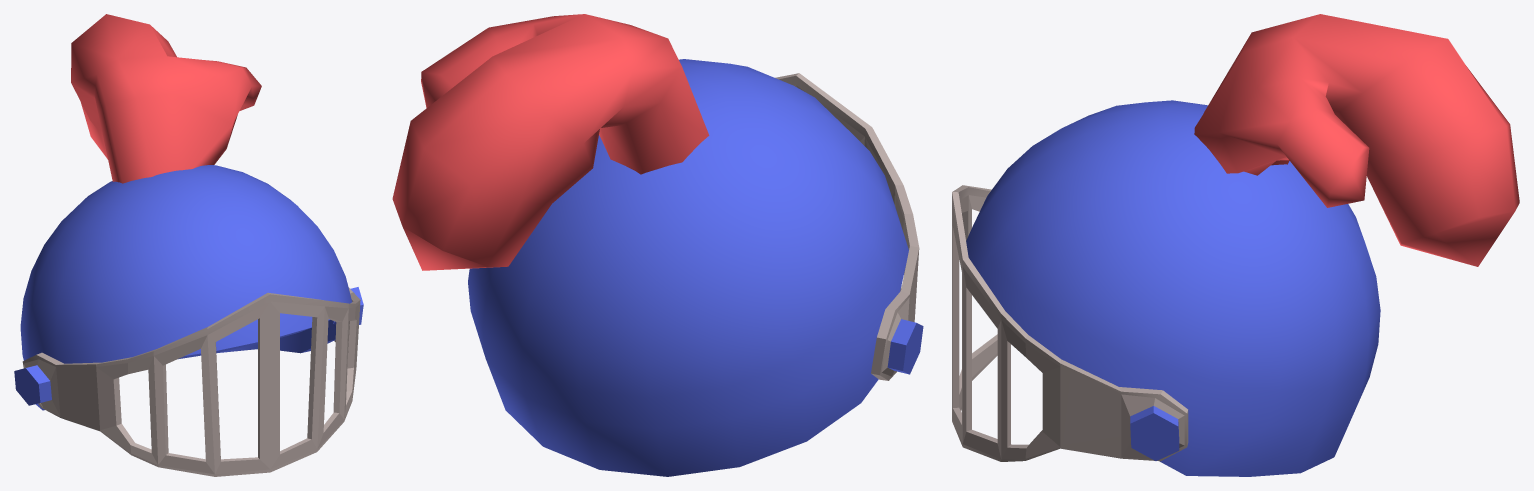
The model's file is Hat_32_02.fbx.
3 renders of one model, left to right at view 1: azimuth 30°, elevation 25°; view 2: azimuth 150°, elevation 25°; view 3: azimuth 270°, elevation 25°, orthographic. The views are drawn at different scales.
Visible parts, largest first — view 1: Hat_32_02; view 2: Hat_32_02; view 3: Hat_32_02.
Part boxes in pixels (left/top/right/bottom): Hat_32_02: left=14, top=14, right=363, bottom=476; Hat_32_02: left=392, top=14, right=923, bottom=476; Hat_32_02: left=952, top=14, right=1519, bottom=476.
Size of the model in its own units: 48.7 by 44.34 by 55.17.
